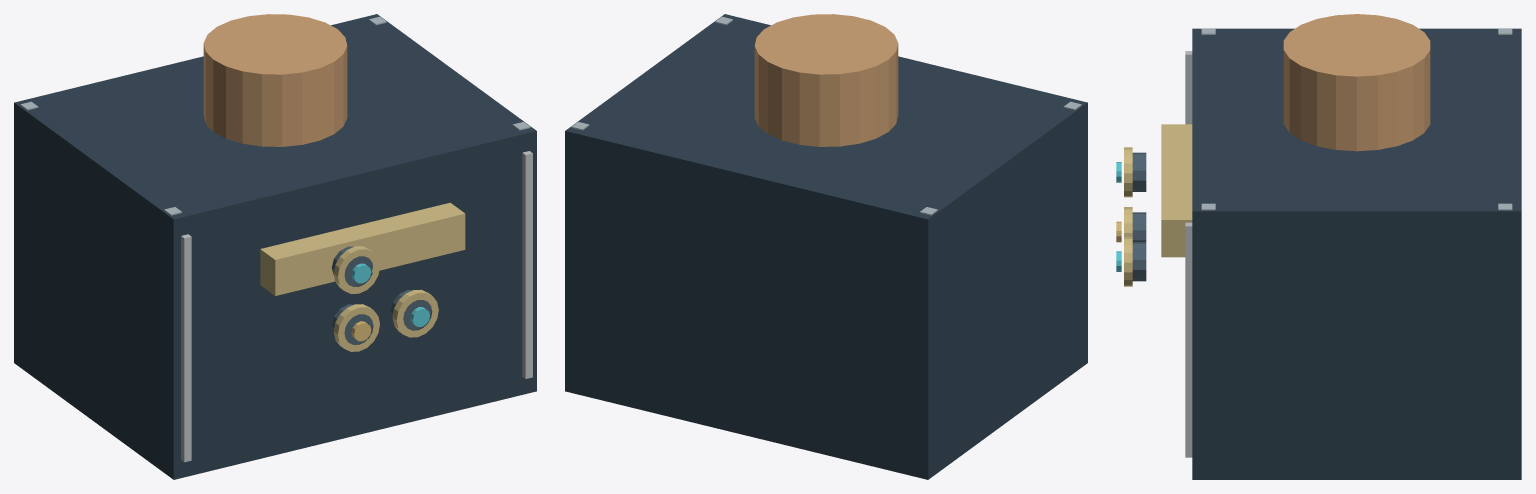
The model's file is 44_L83_BatteryIsolationContactor.glb.
The picture shows the model from 3 angles, left to right: view 1: azimuth 30°, elevation 25°; view 2: azimuth 150°, elevation 25°; view 3: azimuth 270°, elevation 25°; orthographic projection. The views are drawn at different scales.
Visible parts, largest first — view 1: BatteryIsolationContactor_Node_0000, BatteryIsolationContactor_Node_0007, BatteryIsolationContactor_Node_0008, BatteryIsolationContactor_Node_0005, BatteryIsolationContactor_Node_0006, BatteryIsolationContactor_Node_0018, BatteryIsolationContactor_Node_0015, BatteryIsolationContactor_Node_0021; view 2: BatteryIsolationContactor_Node_0000, BatteryIsolationContactor_Node_0007; view 3: BatteryIsolationContactor_Node_0000, BatteryIsolationContactor_Node_0007, BatteryIsolationContactor_Node_0008, BatteryIsolationContactor_Node_0006, BatteryIsolationContactor_Node_0017, BatteryIsolationContactor_Node_0020, BatteryIsolationContactor_Node_0005, BatteryIsolationContactor_Node_0018, BatteryIsolationContactor_Node_0021, BatteryIsolationContactor_Node_0014.
Part boxes in pixels (x1,y1,x2,y2): BatteryIsolationContactor_Node_0000: (14,14,536,479); BatteryIsolationContactor_Node_0007: (203,14,347,146); BatteryIsolationContactor_Node_0008: (260,202,465,295); BatteryIsolationContactor_Node_0005: (181,234,191,462); BatteryIsolationContactor_Node_0006: (522,151,532,378); BatteryIsolationContactor_Node_0018: (392,289,438,337); BatteryIsolationContactor_Node_0015: (333,304,379,351); BatteryIsolationContactor_Node_0021: (333,246,379,293); BatteryIsolationContactor_Node_0000: (565,14,1087,479); BatteryIsolationContactor_Node_0007: (754,14,898,146); BatteryIsolationContactor_Node_0000: (1192,28,1521,479); BatteryIsolationContactor_Node_0007: (1283,14,1430,151); BatteryIsolationContactor_Node_0008: (1161,124,1192,257); BatteryIsolationContactor_Node_0006: (1185,222,1192,457); BatteryIsolationContactor_Node_0017: (1132,242,1146,281); BatteryIsolationContactor_Node_0020: (1132,152,1146,191); BatteryIsolationContactor_Node_0005: (1185,51,1192,124); BatteryIsolationContactor_Node_0018: (1124,236,1132,286); BatteryIsolationContactor_Node_0021: (1124,147,1132,197); BatteryIsolationContactor_Node_0014: (1132,212,1146,241).
Bounding box in the file's own units: 1.05 × 0.92 × 0.9845.
